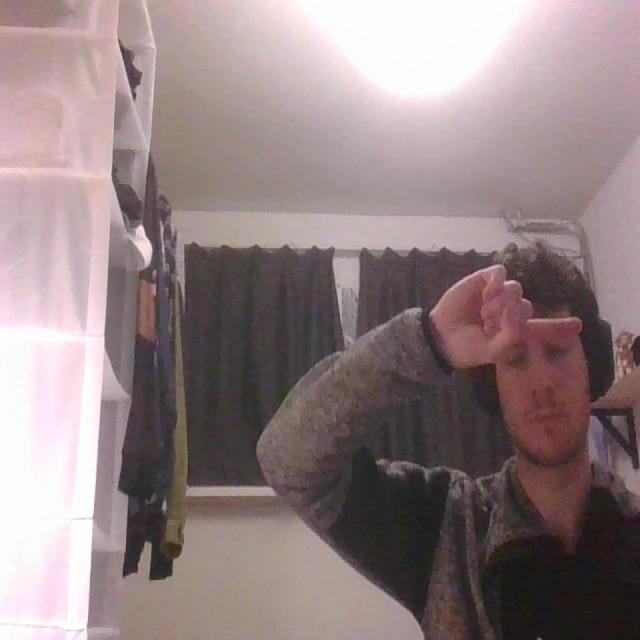right: (426, 263, 596, 372)
